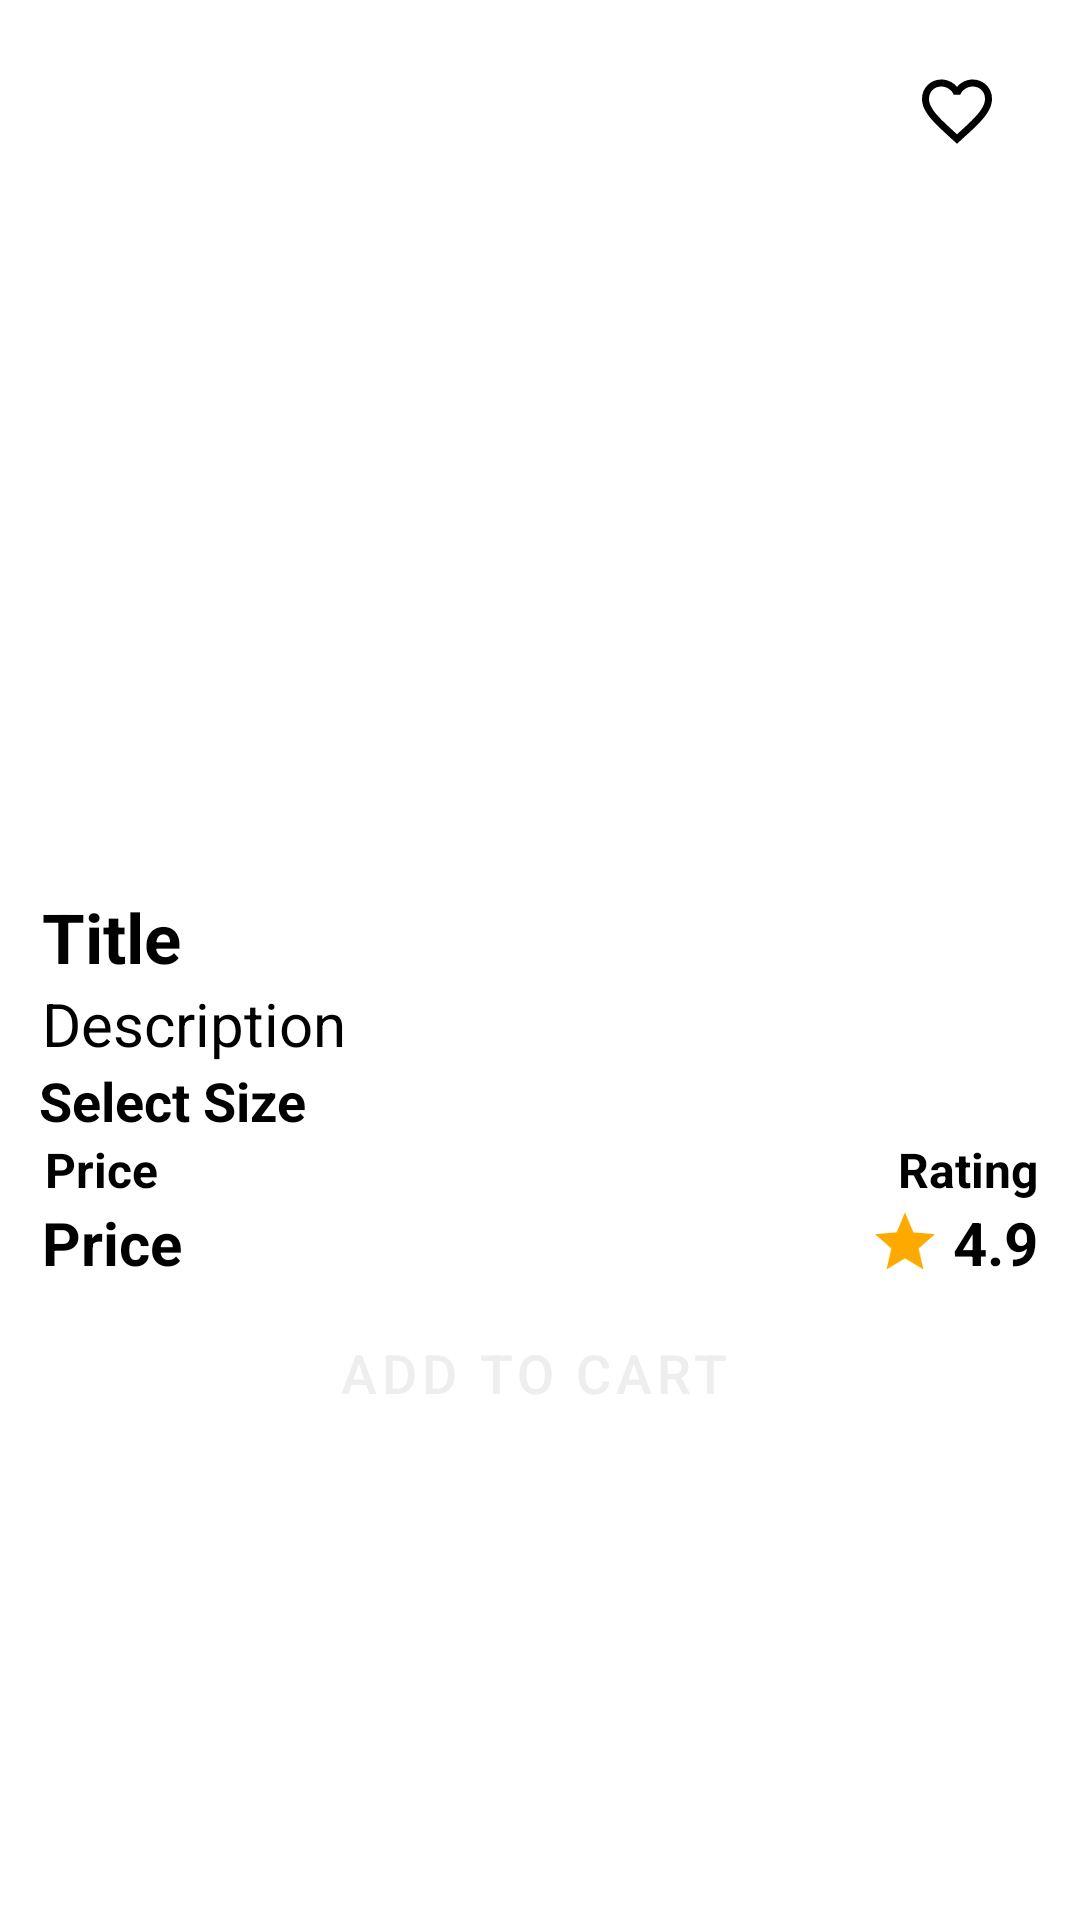

Icon bounding boxes for this 1080 × 1920 phone screenshot, format (x1, y1, x2, y2):
favorite border: (922, 79, 992, 144)
star: (875, 1212, 935, 1270)
